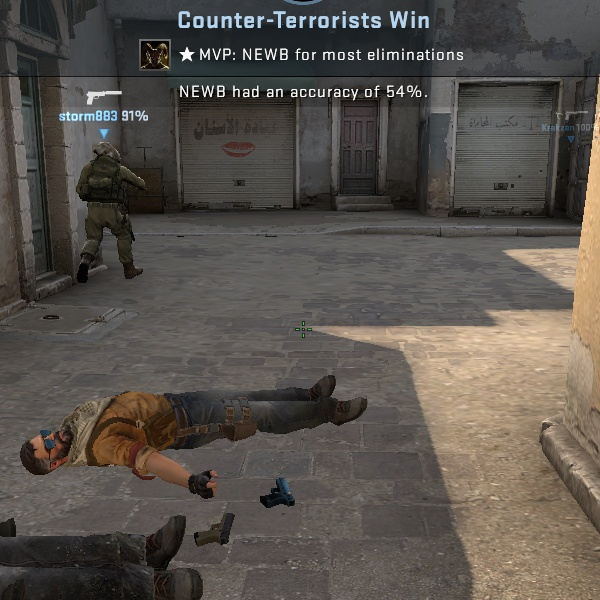ct_body: (77, 137, 152, 285)
ct_head: (89, 139, 124, 171)
